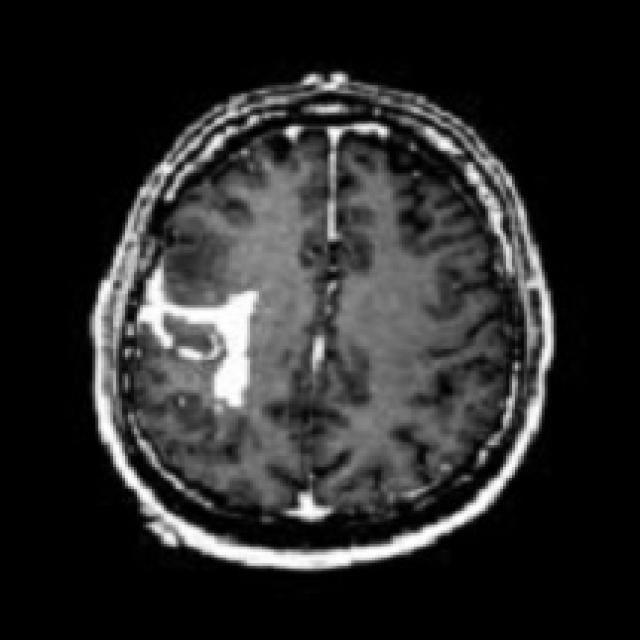Tumor-Cell: (139, 252, 272, 390)
